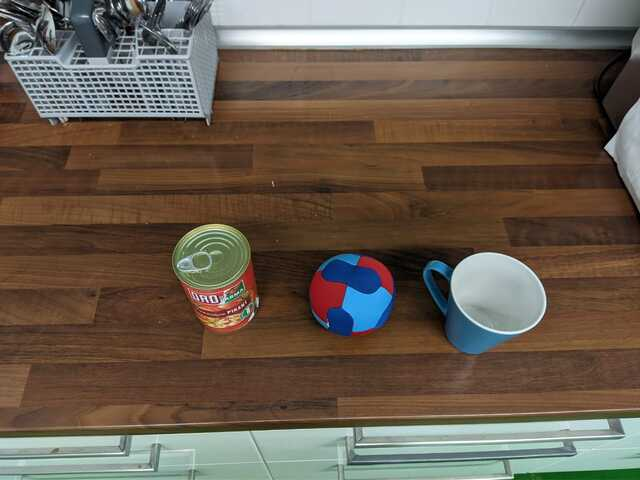005_tomato_soup_can: (166, 220, 265, 337)
025_mug: (422, 245, 549, 361)
057_racquetball: (302, 250, 397, 340)
